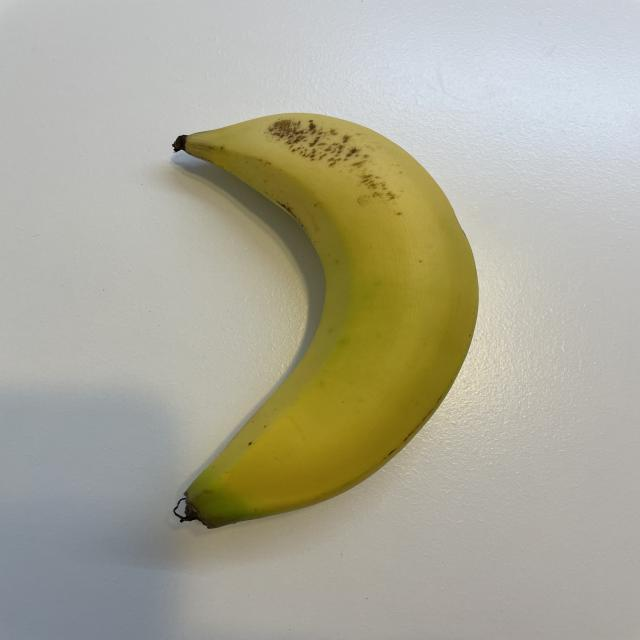Banana: (159, 107, 483, 530)
